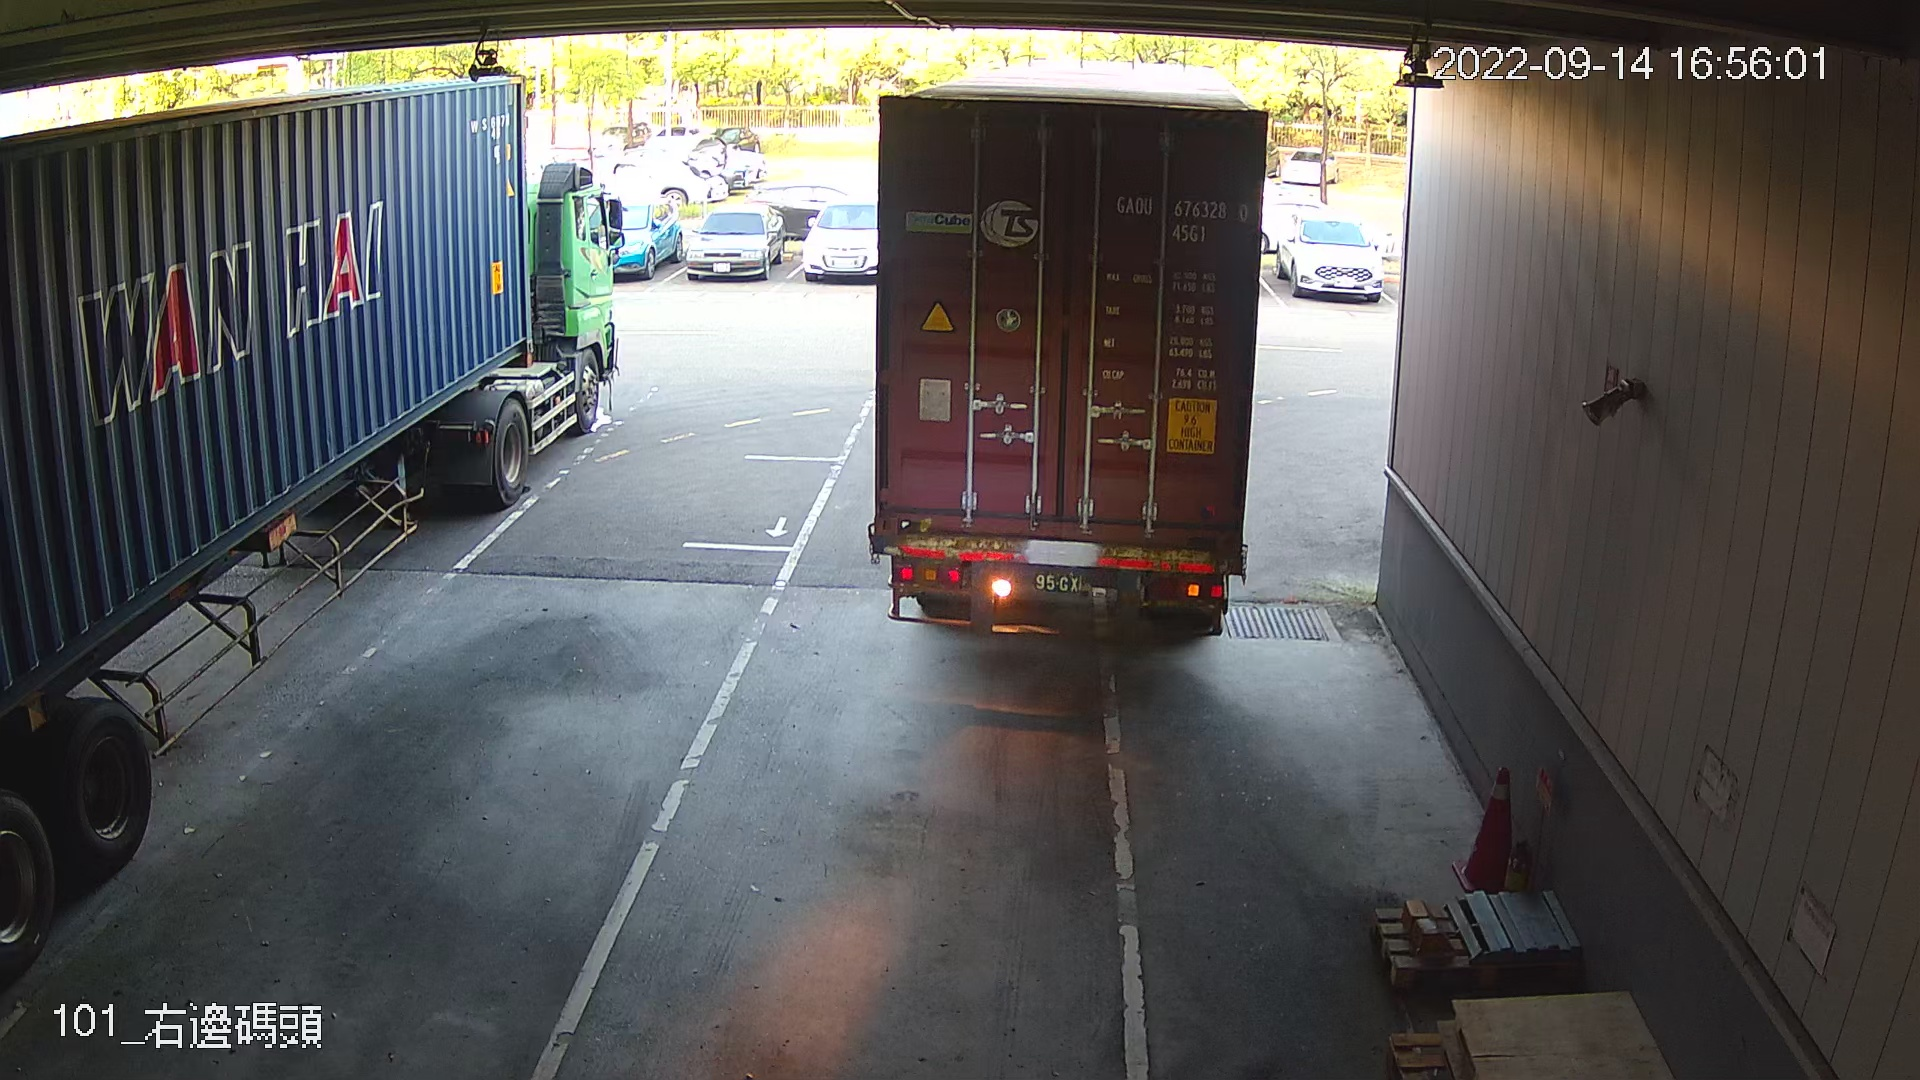container: (1104, 183, 1257, 249)
